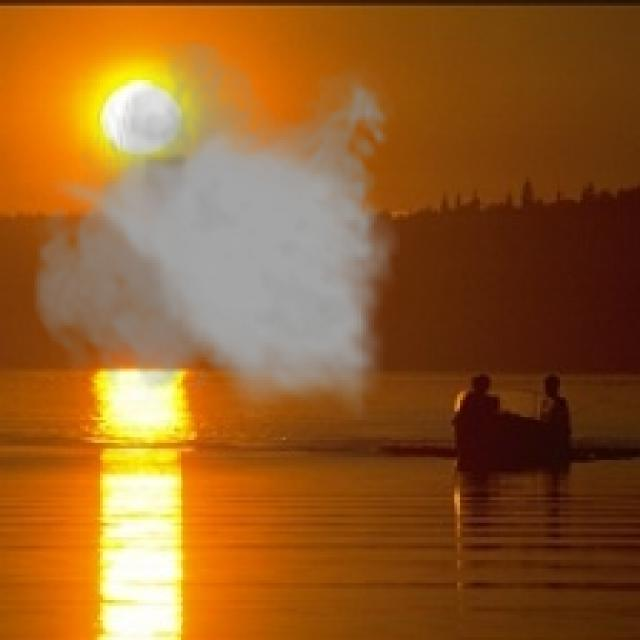smoke: (29, 40, 400, 420)
